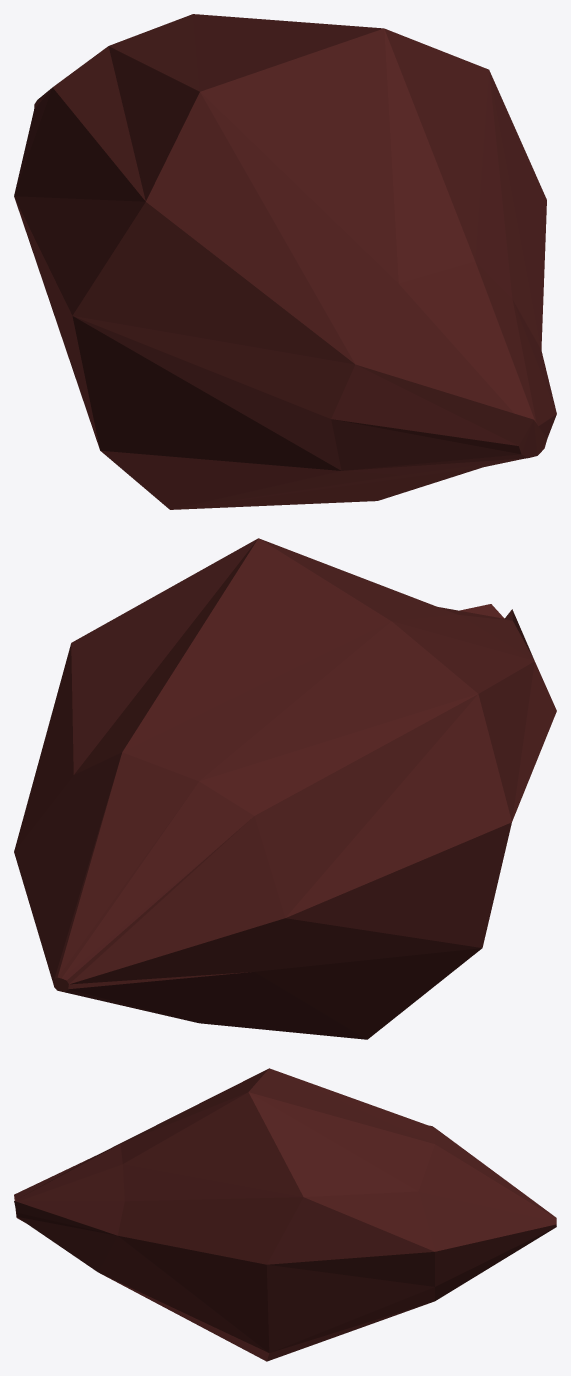
Rendered from SweetPotato3.fbx.
The picture shows the model from 3 angles, top to bottom: view 1: azimuth 30°, elevation 25°; view 2: azimuth 150°, elevation 25°; view 3: azimuth 270°, elevation 25°; orthographic projection. The views are drawn at different scales.
Parts seen in each view (by area): view 1: Cylinder.002; view 2: Cylinder.002; view 3: Cylinder.002.
Part boxes in pixels (<box>): Cylinder.002: <box>14,14,556,509</box>; Cylinder.002: <box>14,538,556,1039</box>; Cylinder.002: <box>14,1068,556,1361</box>.
Bounding box in the file's own units: 107 × 105 × 193.
